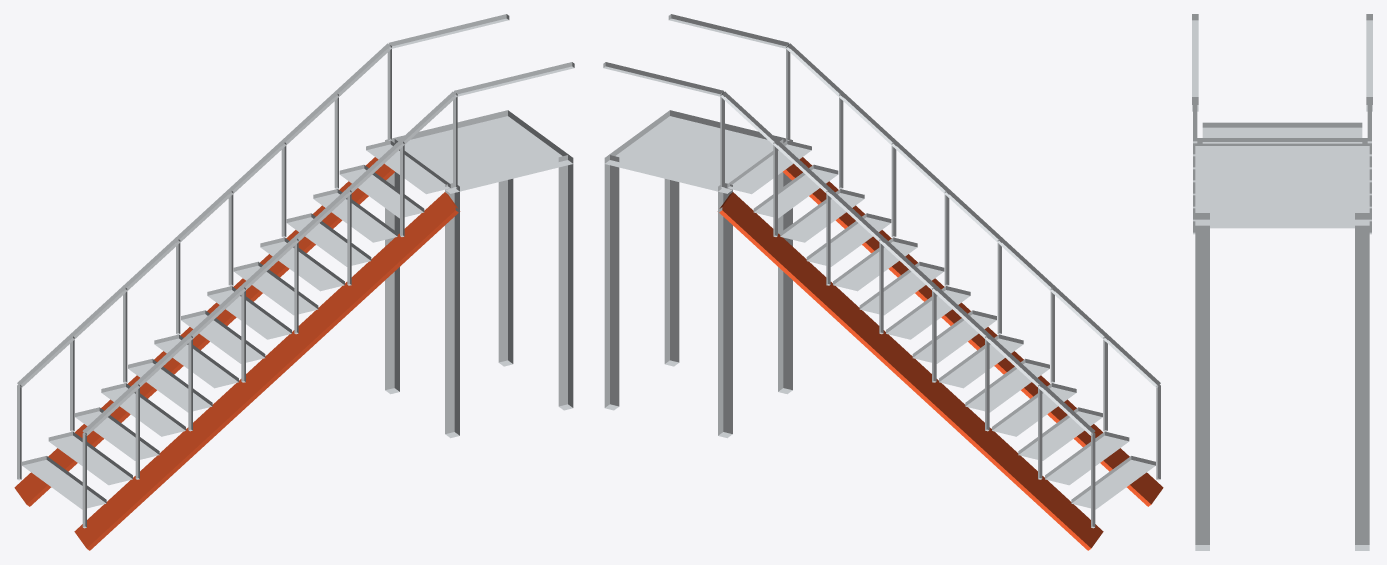
The model's file is steel-stair.glb.
3 views of the same model, side by side, from view 1: azimuth 30°, elevation 25°; view 2: azimuth 150°, elevation 25°; view 3: azimuth 270°, elevation 25° (orthographic). The views are drawn at different scales.
Visible parts, largest first — view 1: steel-stair; view 2: steel-stair; view 3: steel-stair.
Part boxes in pixels (<box>): steel-stair: <box>14,14,574,550</box>; steel-stair: <box>603,14,1163,550</box>; steel-stair: <box>1192,14,1372,550</box>.
Bounding box in the file's own units: 5.23 × 3.75 × 1.25.
